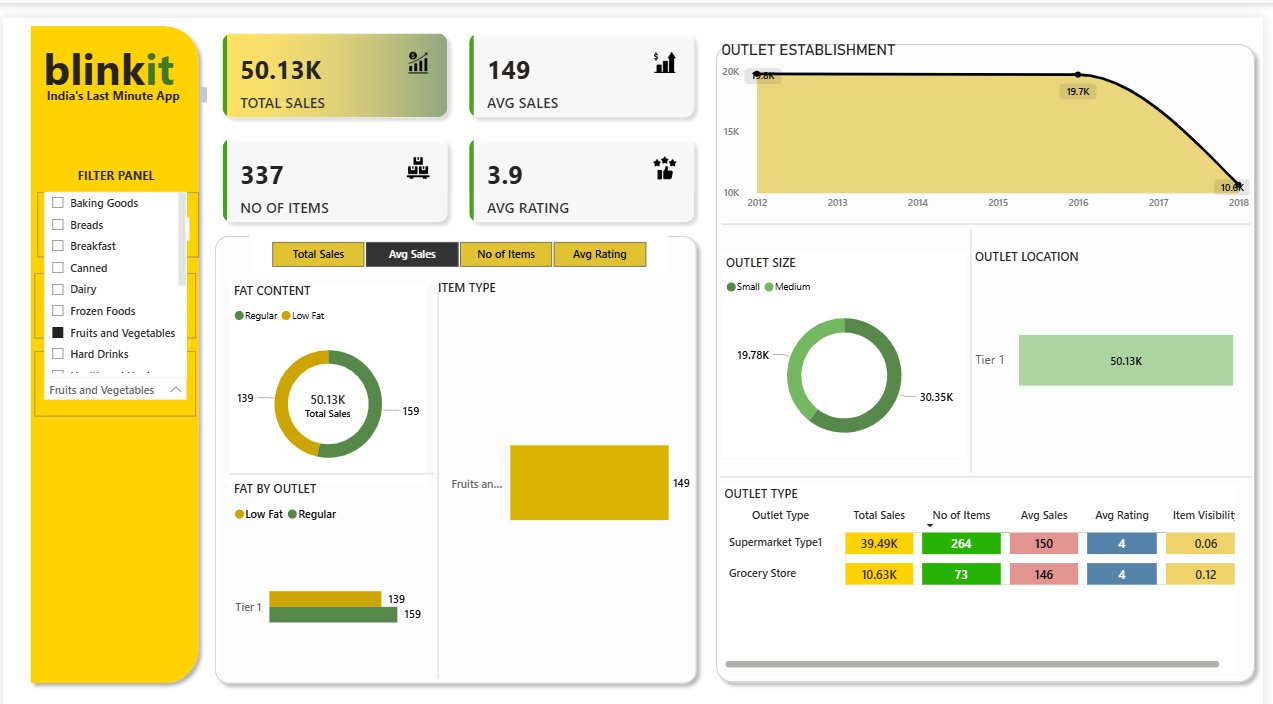

What the dashboard file says about the page in this screenshot:
{"tool":"powerbi","page":{"name":"Page 1","canvas":[1400,800],"ordinal":0},"visuals":[{"type":"shape","box":[22.4,0,204.5,747.8],"z":0},{"type":"textbox","box":[39.6,17.2,168.8,82.7],"z":1000},{"type":"textbox","box":[274.5,0,205,748],"z":2000},{"type":"textbox","box":[596.1,51.7,205,747.7],"z":3000},{"type":"textbox","box":[22.4,72.4,210.2,27.6],"z":4000},{"type":"cardVisual","fields":{"Data":["BlinkIT Grocery Data.Total Sales","BlinkIT Grocery Data.Avg Sales","BlinkIT Grocery Data.No of Items","BlinkIT Grocery Data.Avg Rating"]},"box":[225.9,0,558.2,245.9],"z":5000},{"type":"shape","box":[227.4,232.6,553,515.1],"z":6000},{"type":"donutChart","title":"FAT CONTENT","fields":{"Y":["BlinkIT Grocery Data.Total Sales"],"Category":["BlinkIT Grocery Data.Item Fat Content"]},"box":[251.5,292.9,218.8,225.7],"z":7000},{"type":"cardVisual","fields":{"Data":["BlinkIT Grocery Data.Total Sales"]},"box":[303.2,384.2,115.4,91.3],"z":8000},{"type":"clusteredBarChart","title":"FAT BY OUTLET","fields":{"Y":["BlinkIT Grocery Data.Total Sales"],"Category":["BlinkIT Grocery Data.Outlet Location Type"],"Series":["BlinkIT Grocery Data.Item Fat Content"]},"box":[251.5,513.4,218.8,229.1],"z":9000},{"type":"shape","box":[861.3,271.6,212.5,238.1],"z":10000},{"type":"shape","box":[377.3,303.2,213.6,430.7],"z":11000},{"type":"barChart","title":"ITEM TYPE","fields":{"Y":["BlinkIT Grocery Data.Total Sales"],"Category":["BlinkIT Grocery Data.Item Type"]},"box":[478.9,289.4,289.4,430.7],"z":12000},{"type":"shape","box":[783,20.8,616.8,727],"z":13000},{"type":"slicer","fields":{"Values":["Metrics 2.Metrics"]},"box":[273.9,241.2,465.1,41.3],"z":14000},{"type":"lineChart","title":"OUTLET ESTABLISHMENT","fields":{"Category":["BlinkIT Grocery Data.Outlet Establishment Year"],"Y":["BlinkIT Grocery Data.Total Sales"]},"box":[792.6,25.6,596,196.5],"z":15000},{"type":"shape","box":[797.6,156.8,587.5,144.7],"z":16000},{"type":"shape","box":[251.5,466.9,227.4,79.2],"z":17000},{"type":"donutChart","title":"OUTLET SIZE","fields":{"Category":["BlinkIT Grocery Data.Outlet Size"],"Y":["BlinkIT Grocery Data.Total Sales"]},"box":[797.6,261.9,272.2,225.7],"z":18000},{"type":"shape","box":[963,234.3,224,270.5],"z":19000},{"type":"funnel","title":"OUTLET LOCATION","fields":{"Y":["Sum(BlinkIT Grocery Data.Sales)"],"Category":["BlinkIT Grocery Data.Outlet Location Type"]},"box":[1075,255,301.5,230.8],"z":20000},{"type":"shape","box":[795.9,437.6,590.9,143],"z":21000},{"type":"pivotTable","title":"OUTLET TYPE","fields":{"Values":["BlinkIT Grocery Data.Total Sales","BlinkIT Grocery Data.No of Items","BlinkIT Grocery Data.Avg Sales","BlinkIT Grocery Data.Avg Rating","Avg(BlinkIT Grocery Data.Item Visibility)"],"Rows":["BlinkIT Grocery Data.Outlet Type"]},"box":[797.4,517.7,576.8,209.3],"z":22000},{"type":"slicer","fields":{"Values":["BlinkIT Grocery Data.Outlet Location Type"]},"box":[37.9,192.9,179.2,72.4],"z":23000},{"type":"slicer","fields":{"Values":["BlinkIT Grocery Data.Outlet Size"]},"box":[34.5,282.5,179.2,72.4],"z":24000},{"type":"slicer","fields":{"Values":["BlinkIT Grocery Data.Item Type"]},"box":[34.5,370.4,179.2,72.4],"z":25000},{"type":"textbox","box":[79.2,160.2,96.5,32.7],"z":26000}]}

Visuals, with their boxes on the page's 1400x800 design canvas (x1, y1, x2, y2). These are canvas units, not pixel positions in the 1273x704 screenshot, which may show the page scaled, cropped or inside an application window:
shape: 22, 0, 227, 748
textbox: 40, 17, 208, 100
textbox: 274, 0, 480, 748
textbox: 596, 52, 801, 799
textbox: 22, 72, 233, 100
cardVisual - BlinkIT Grocery Data.Total Sales x BlinkIT Grocery Data.Avg Sales: 226, 0, 784, 246
shape: 227, 233, 780, 748
"FAT CONTENT" donutChart: 252, 293, 470, 519
cardVisual - BlinkIT Grocery Data.Total Sales: 303, 384, 419, 476
"FAT BY OUTLET" clusteredBarChart: 252, 513, 470, 742
shape: 861, 272, 1074, 510
shape: 377, 303, 591, 734
"ITEM TYPE" barChart: 479, 289, 768, 720
shape: 783, 21, 1400, 748
slicer - Metrics 2.Metrics: 274, 241, 739, 282
"OUTLET ESTABLISHMENT" lineChart: 793, 26, 1389, 222
shape: 798, 157, 1385, 302
shape: 252, 467, 479, 546
"OUTLET SIZE" donutChart: 798, 262, 1070, 488
shape: 963, 234, 1187, 505
"OUTLET LOCATION" funnel: 1075, 255, 1376, 486
shape: 796, 438, 1387, 581
"OUTLET TYPE" pivotTable: 797, 518, 1374, 727
slicer - BlinkIT Grocery Data.Outlet Location Type: 38, 193, 217, 265
slicer - BlinkIT Grocery Data.Outlet Size: 34, 282, 214, 355
slicer - BlinkIT Grocery Data.Item Type: 34, 370, 214, 443
textbox: 79, 160, 176, 193
